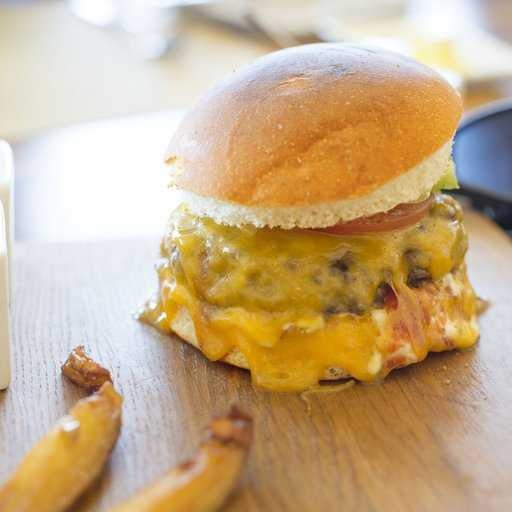hamburger: (135, 42, 489, 377)
